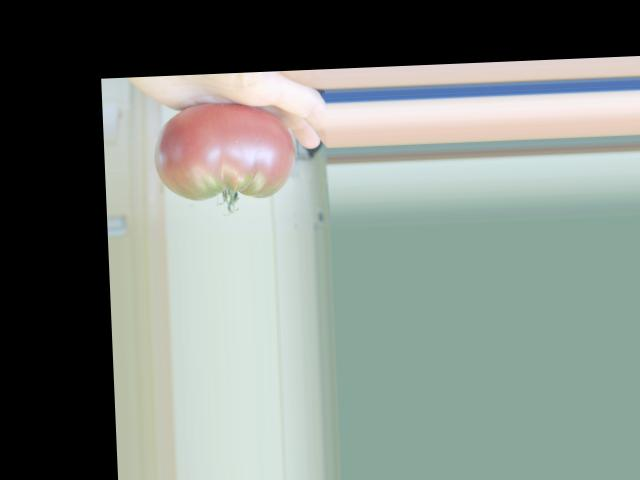tomato: (152, 99, 296, 202)
